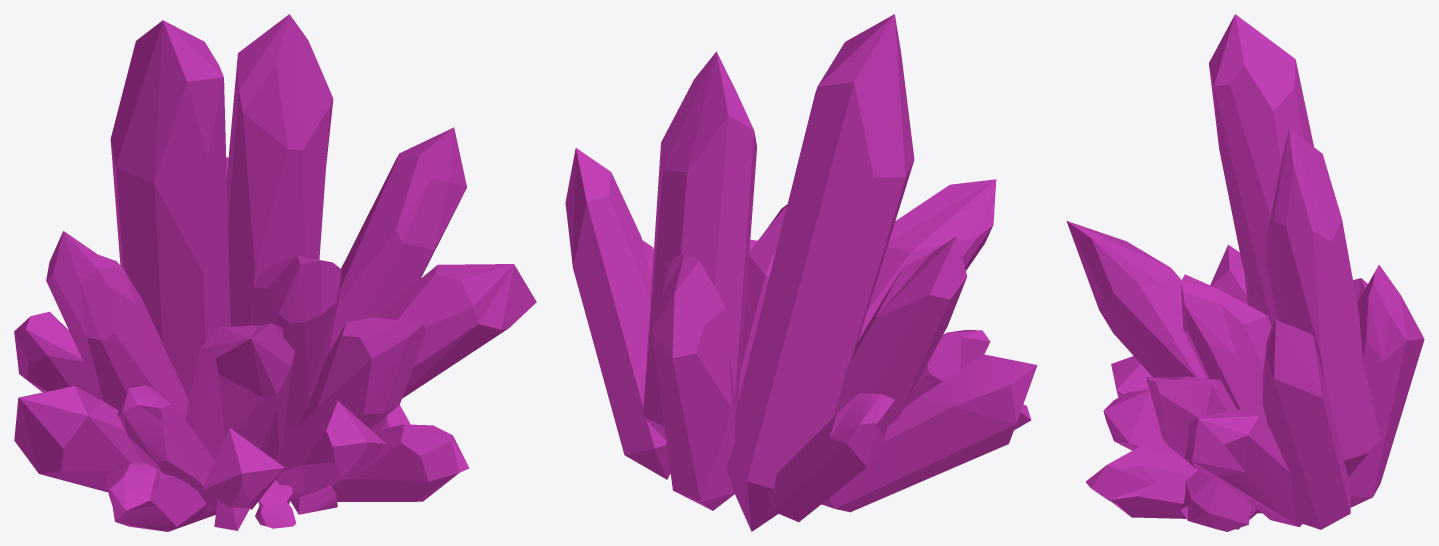
File: crystal.glb
3 views of the same model, side by side, from view 1: azimuth 30°, elevation 25°; view 2: azimuth 150°, elevation 25°; view 3: azimuth 270°, elevation 25° (orthographic). The views are drawn at different scales.
Parts seen in each view (by area): view 1: crystal17_2; view 2: crystal17_2; view 3: crystal17_2.
Part boxes in pixels (<box>): crystal17_2: <box>14,14,536,531</box>; crystal17_2: <box>565,14,1037,531</box>; crystal17_2: <box>1066,14,1424,531</box>.
Size of the model in its own units: 0.8741 by 0.8806 by 0.6338.
